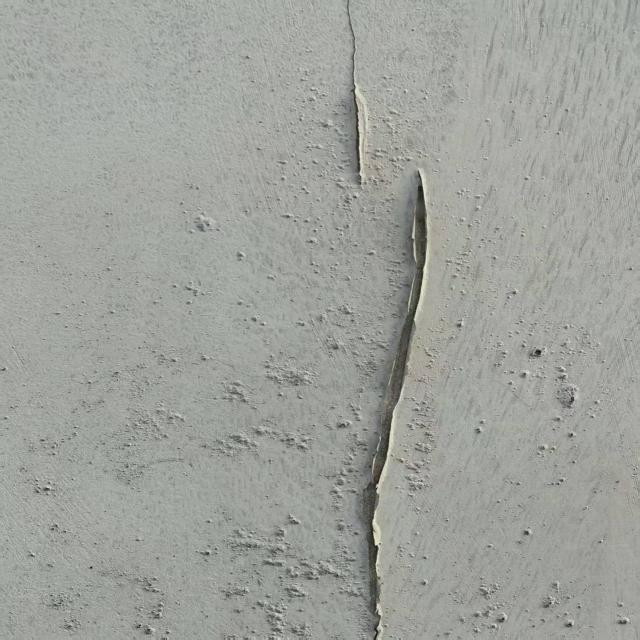crack: (353, 157, 440, 632), (329, 7, 370, 193)
